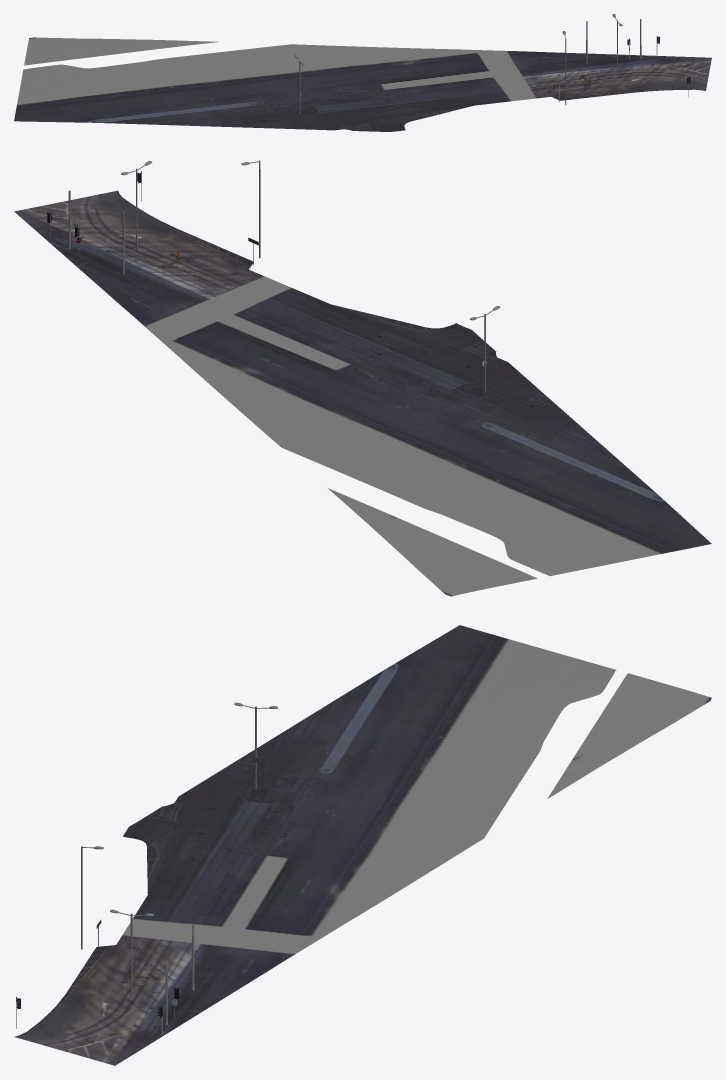
Rendered from macau-ferry-terminal.glb.
The picture shows the model from 3 angles, top to bottom: view 1: azimuth 30°, elevation 25°; view 2: azimuth 150°, elevation 25°; view 3: azimuth 270°, elevation 25°; orthographic projection. The views are drawn at different scales.
Visible parts, largest first — view 1: macau-ferry-terminal; view 2: macau-ferry-terminal; view 3: macau-ferry-terminal.
Boxes of the visible parts, x1,y1,x2,y2 form: macau-ferry-terminal: (14, 14, 711, 131); macau-ferry-terminal: (14, 160, 711, 596); macau-ferry-terminal: (14, 625, 711, 1065).
Size of the model in its own units: 109 by 13.05 by 72.36.
Materials: 5 (5 with a texture image).
